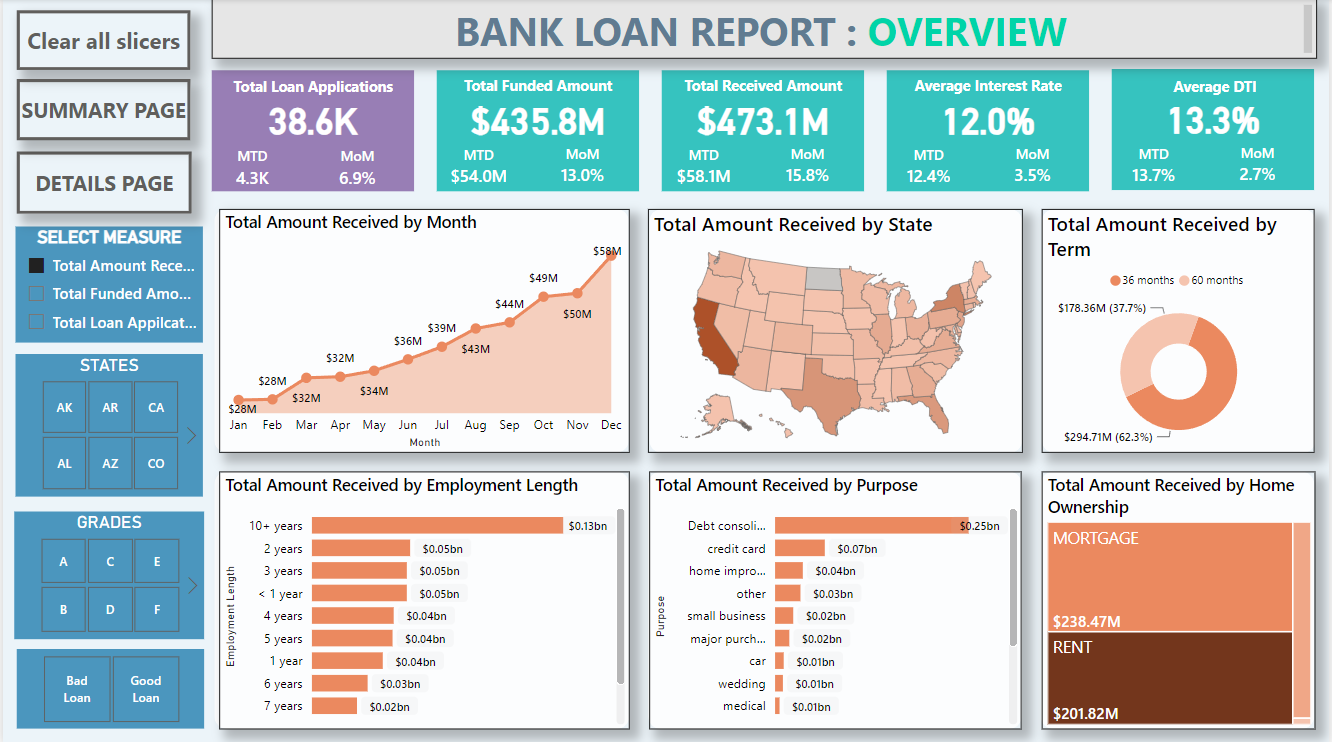

This screenshot's page, from the dashboard's own definition file:
{"tool":"powerbi","page":{"name":"Overview","canvas":[1280,720],"ordinal":1},"visuals":[{"type":"shape","box":[203.9,202.7,400,235],"z":0},{"type":"group","id":"g1","title":"Group 1","box":[200.9,69.1,196,117],"z":2000},{"type":"shape","box":[1070,68.1,195.4,117],"z":3000,"group":"g5"},{"type":"shape","box":[635.7,68.5,195.4,117],"z":3000,"group":"g3"},{"type":"shape","box":[852.9,68.5,195.4,117],"z":3000,"group":"g4"},{"type":"group","id":"g2","title":"Group 1","box":[418.6,68.9,195.4,117.3],"z":3000},{"type":"shape","box":[418.6,68.9,195.4,117],"z":3000,"group":"g2"},{"type":"shape","box":[201.5,69.1,195.4,117],"z":3000,"group":"g1"},{"type":"group","id":"g3","title":"Group 1","box":[635.7,68.5,195.4,118.2],"z":4000},{"type":"card","fields":{"Values":["bank_loan.Average DTI"]},"box":[1070.1,92.9,195.4,42.2],"z":4000,"group":"g5"},{"type":"card","fields":{"Values":["bank_loan.Total Amount Received"]},"box":[635.7,93.8,195.4,42.2],"z":4000,"group":"g3"},{"type":"card","fields":{"Values":["bank_loan.Average Interest Rate"]},"box":[852.9,93.8,195.4,42.2],"z":4000,"group":"g4"},{"type":"card","fields":{"Values":["bank_loan.Total Funded Amount"]},"box":[418.6,94.2,195.4,42.2],"z":4000,"group":"g2"},{"type":"card","fields":{"Values":["bank_loan.Total Loan Appilcation"]},"box":[201.5,94.4,195.4,42.2],"z":4000,"group":"g1"},{"type":"textbox","box":[635.7,68.5,195.4,33.8],"z":5000,"group":"g3"},{"type":"group","id":"g4","title":"Group 1","box":[852.9,68.5,195.4,118.2],"z":5000},{"type":"textbox","box":[852.9,68.5,195.4,33.8],"z":5000,"group":"g4"},{"type":"textbox","box":[418.6,68.9,195.4,33.8],"z":5000,"group":"g2"},{"type":"textbox","box":[200.9,70.2,195.4,33.8],"z":5000,"group":"g1"},{"type":"textbox","box":[1072.2,70.3,194.2,31.4],"z":5000,"group":"g5"},{"type":"group","id":"g5","title":"Group 1","box":[1070,68.1,196.5,117],"z":6000},{"type":"card","title":"MTD","fields":{"Values":["bank_loan.MTD Average DTI"]},"box":[1072.3,140.2,76,44.6],"z":6000,"group":"g5"},{"type":"card","title":"MTD","fields":{"Values":["bank_loan.MTD Total Amount Receieved"]},"box":[637.8,141.2,76,44.6],"z":6000,"group":"g3"},{"type":"card","title":"MTD","fields":{"Values":["bank_loan.MTD Average Interest Rate"]},"box":[855,141.2,76,44.6],"z":6000,"group":"g4"},{"type":"card","title":"MTD","fields":{"Values":["bank_loan.MTD Funded Amount"]},"box":[420.7,141.6,76,44.6],"z":6000,"group":"g2"},{"type":"card","title":"MTD","fields":{"Values":["bank_loan.MTD Loan Applications"]},"box":[208.7,142.7,63.9,43.4],"z":6000,"group":"g1"},{"type":"card","title":"MoM","fields":{"Values":["bank_loan.MoM Average DTI"]},"box":[1179.7,139,61.5,45.8],"z":7000,"group":"g5"},{"type":"card","title":"MoM","fields":{"Values":["bank_loan.MoM Total Received Amount"]},"box":[745.2,140,61.5,45.8],"z":7000,"group":"g3"},{"type":"card","title":"MoM","fields":{"Values":["bank_loan.MoM Average Interest Rate"]},"box":[962.4,140,61.5,45.8],"z":7000,"group":"g4"},{"type":"card","title":"MoM","fields":{"Values":["bank_loan.MoM Funded Amount"]},"box":[528.1,140.4,61.5,45.8],"z":7000,"group":"g2"},{"type":"card","title":"MoM","fields":{"Values":["bank_loan.MoM Loan Application"]},"box":[308.8,142.7,63.9,43.4],"z":7000,"group":"g1"},{"type":"slicer","fields":{"Values":["bank_loan.Good Vs Bad Loan"]},"box":[13.3,627.1,180.9,77.2],"z":7000},{"type":"areaChart","fields":{"Y":["bank_loan.Total Amount Received"],"Category":["Date Table.Month"]},"box":[208.7,202.7,395.7,235.3],"z":8000},{"type":"slicer","title":"SELECT MEASURE","fields":{"Values":["Select Measure.Select Measure"]},"box":[12.1,219.5,180.9,112.2],"z":9000},{"type":"shape","box":[623.7,202.7,360,235.3],"z":10000},{"type":"shapeMap","fields":{"Value":["bank_loan.Total Amount Received"],"Category":["bank_loan.address_state"]},"box":[622.3,202.6,361.8,235.2],"z":11000},{"type":"shape","box":[1002.6,202.7,264.2,235.3],"z":12000},{"type":"donutChart","fields":{"Y":["bank_loan.Total Amount Received"],"Category":["bank_loan.term"]},"box":[1002.6,202.7,263,235.3],"z":13000},{"type":"shape","box":[203.9,456,400.5,248.5],"z":14000},{"type":"barChart","fields":{"Y":["bank_loan.Total Amount Received"],"Category":["bank_loan.emp_length"]},"box":[208.7,456,395.7,248.5],"z":15000},{"type":"shape","box":[622.5,456,360.7,248.5],"z":16000},{"type":"barChart","fields":{"Y":["bank_loan.Total Amount Received"],"Category":["bank_loan.purpose"]},"box":[623.7,456,359.5,248.5],"z":17000},{"type":"shape","box":[1001.3,456,264.2,248.5],"z":18000},{"type":"treemap","fields":{"Values":["bank_loan.Total Amount Received"],"Group":["bank_loan.home_ownership"]},"box":[1002.6,456,264.2,248.5],"z":19000},{"type":"actionButton","box":[13.3,10.9,167.6,57.9],"z":20000},{"type":"actionButton","box":[13.3,147.1,168.8,60.3],"z":21000},{"type":"actionButton","box":[13.3,77.2,167.6,59.1],"z":22000},{"type":"slicer","title":"STATES","fields":{"Values":["bank_loan.address_state"]},"box":[12.1,342.5,180.9,137.5],"z":23000},{"type":"slicer","title":"GRADES","fields":{"Values":["bank_loan.grade"]},"box":[10.9,494.5,183.3,123],"z":24000},{"type":"textbox","box":[201.4,0,1066.1,57.9],"z":24001}]}

Visuals, with their boxes in screenshot pixels (x1, y1, x2, y2), scaled from the page's 1280x720 canvas onto the 1332x742 screenshot:
shape: 212/209/628/451
"Group 1" group: 209/71/413/192
shape: 1113/70/1317/191
shape: 662/71/865/191
shape: 888/71/1091/191
"Group 1" group: 436/71/639/192
shape: 436/71/639/192
shape: 210/71/413/192
"Group 1" group: 662/71/865/192
card - bank_loan.Average DTI: 1114/96/1317/139
card - bank_loan.Total Amount Received: 662/97/865/140
card - bank_loan.Average Interest Rate: 888/97/1091/140
card - bank_loan.Total Funded Amount: 436/97/639/141
card - bank_loan.Total Loan Appilcation: 210/97/413/141
textbox: 662/71/865/105
"Group 1" group: 888/71/1091/192
textbox: 888/71/1091/105
textbox: 436/71/639/106
textbox: 209/72/412/107
textbox: 1116/72/1318/105
"Group 1" group: 1113/70/1318/191
"MTD" card: 1116/144/1195/190
"MTD" card: 664/146/743/191
"MTD" card: 890/146/969/191
"MTD" card: 438/146/517/192
"MTD" card: 217/147/284/192
"MoM" card: 1228/143/1292/190
"MoM" card: 775/144/839/191
"MoM" card: 1001/144/1065/191
"MoM" card: 550/145/614/192
"MoM" card: 321/147/388/192
slicer - bank_loan.Good Vs Bad Loan: 14/646/202/726
areaChart - bank_loan.Total Amount Received x Date Table.Month: 217/209/629/451
"SELECT MEASURE" slicer: 13/226/201/342
shape: 649/209/1024/451
shapeMap - bank_loan.Total Amount Received x bank_loan.address_state: 648/209/1024/451
shape: 1043/209/1318/451
donutChart - bank_loan.Total Amount Received x bank_loan.term: 1043/209/1317/451
shape: 212/470/629/726
barChart - bank_loan.Total Amount Received x bank_loan.emp_length: 217/470/629/726
shape: 648/470/1023/726
barChart - bank_loan.Total Amount Received x bank_loan.purpose: 649/470/1023/726
shape: 1042/470/1317/726
treemap - bank_loan.Total Amount Received x bank_loan.home_ownership: 1043/470/1318/726
actionButton: 14/11/188/71
actionButton: 14/152/189/214
actionButton: 14/80/188/140
"STATES" slicer: 13/353/201/495
"GRADES" slicer: 11/510/202/636
textbox: 210/0/1319/60
